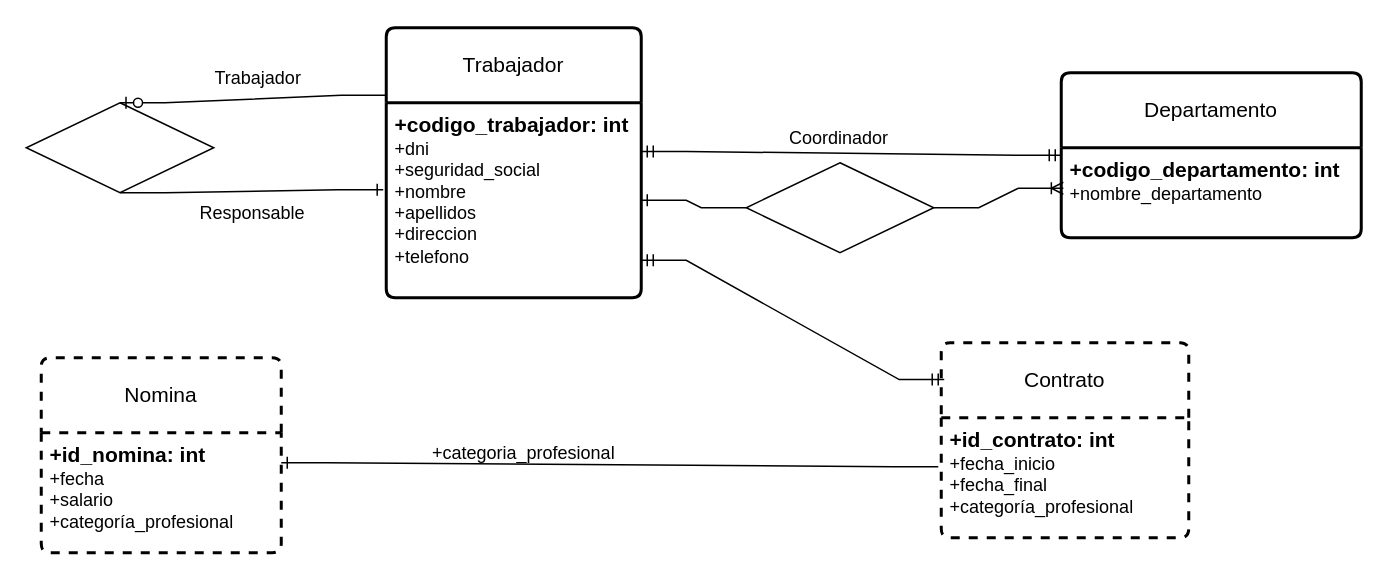
Some shapes in this 1389 by 579 pixel diagram are drawn without their labels. The shapes that lost their labels are listed below. From the top down, each one's box as (x1, y1, x2, y2) in pixels, then its label:
(25, 101, 214, 193): Encargar
(745, 161, 934, 253): Trabajar
